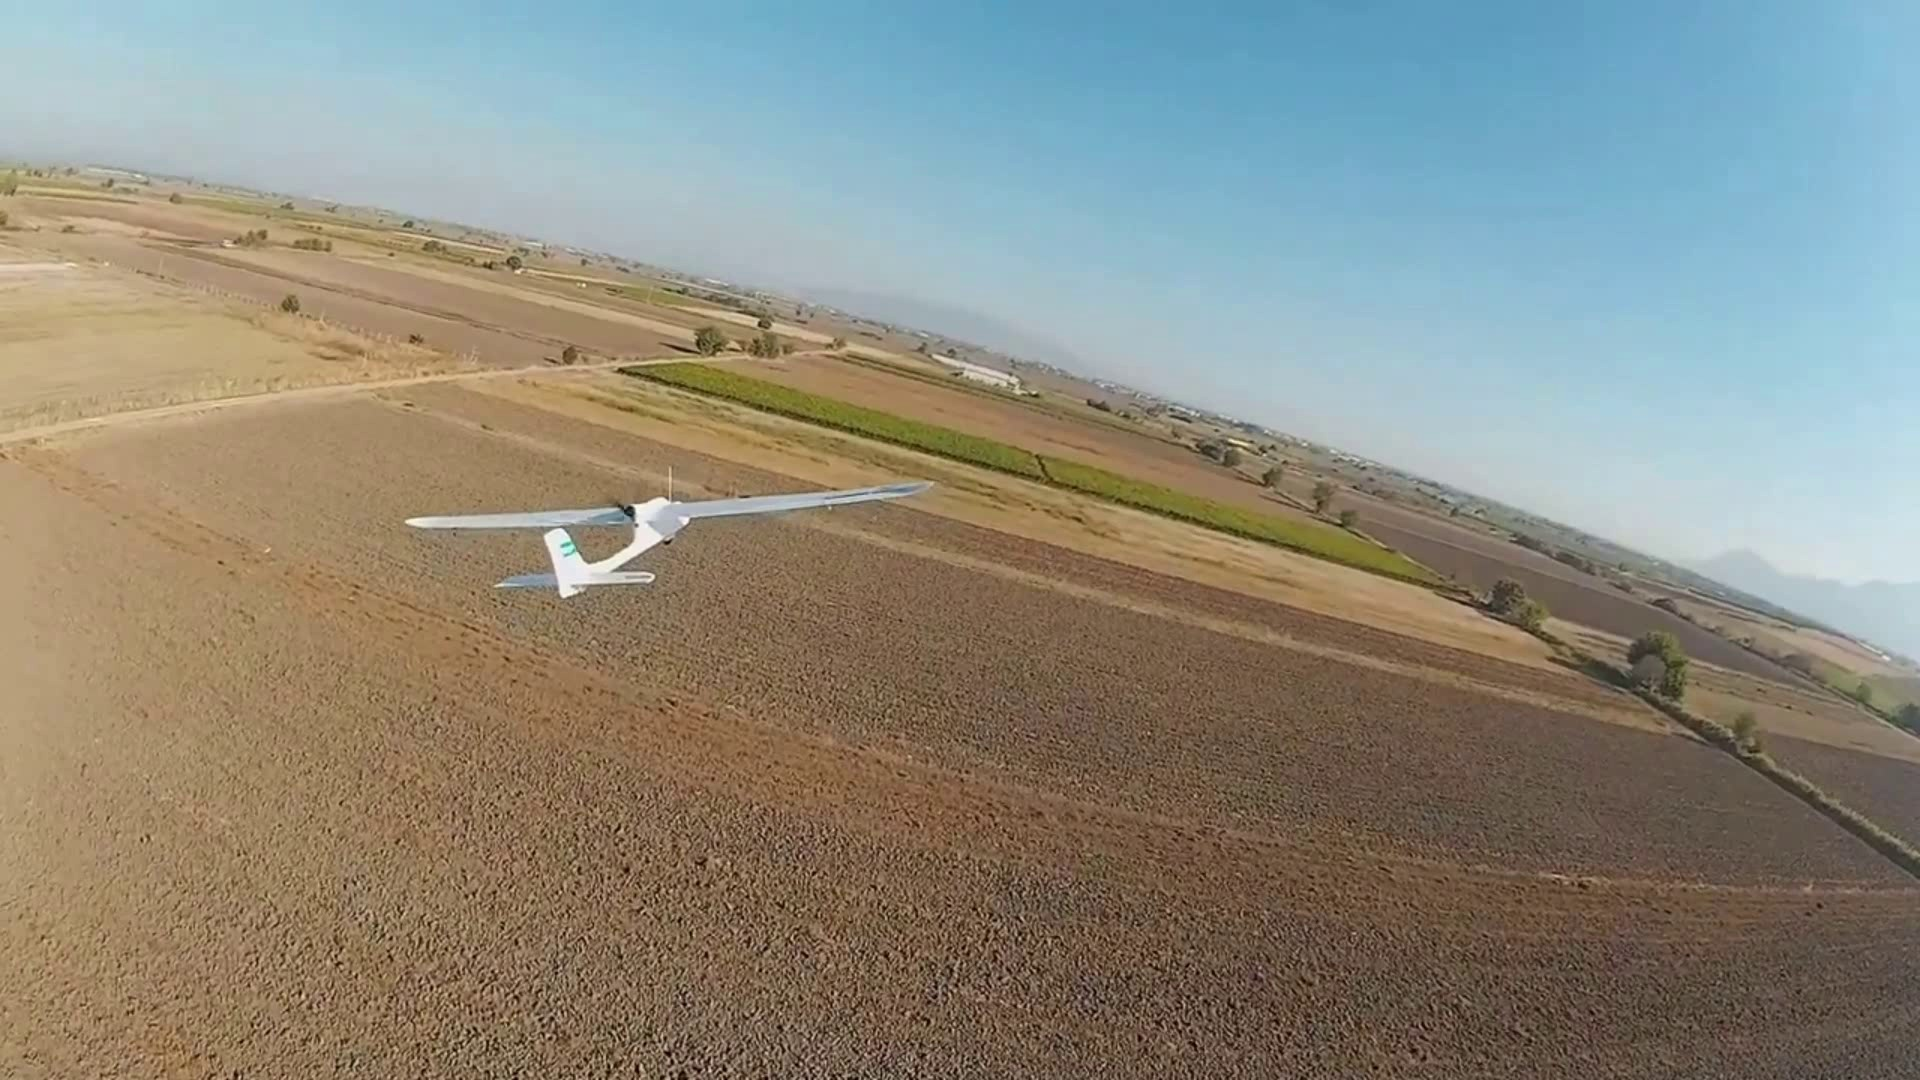airplane: (404, 488, 928, 600)
